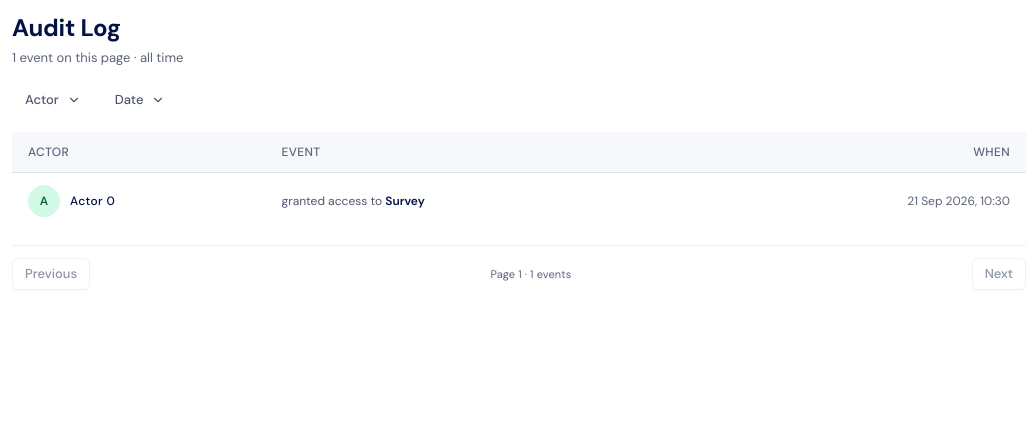
Test: AuditLogPage (/w/[slug]/audit) › shows a distinct no-matches state once a filter is active
Expected: the column heading "Actor 0" is shown, [12,172,266,229]
What coordinates should you click on to do the following:
click the button "Date"
I would click on:
 (140, 100)
Its box is [102,84,178,116].
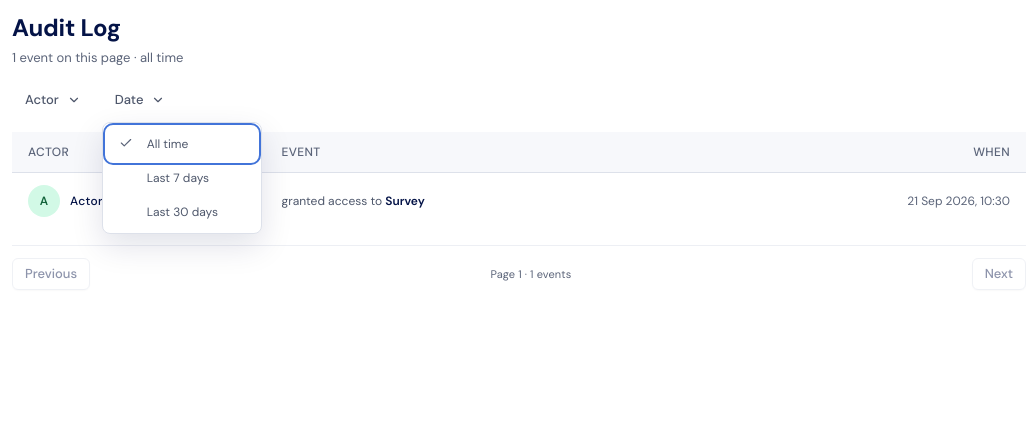
What coordinates should you click on to do the following:
click the menu item "Last 7 days"
I would click on:
 (182, 178)
Its box is [107,161,257,195].
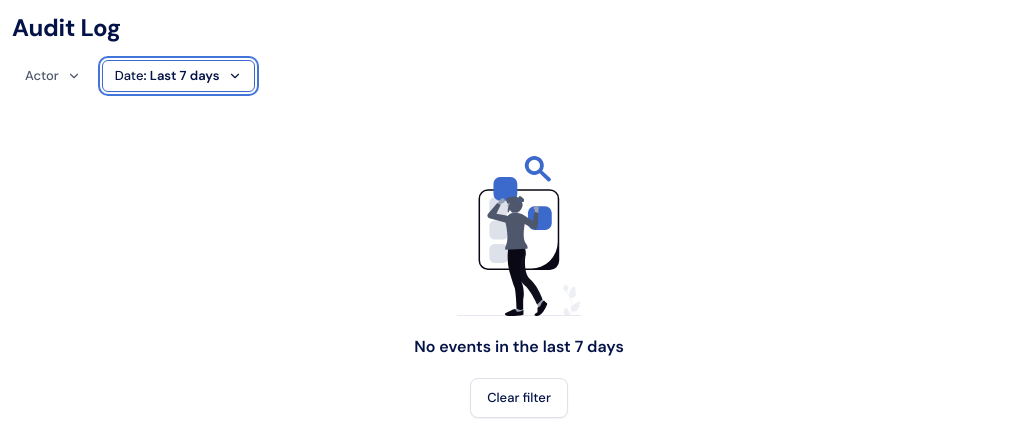
Now the heading "No events in the last 7 days" is shown, box [414,336,624,358]
Now the button "Clear filter" is shown, box [470,378,568,418]
